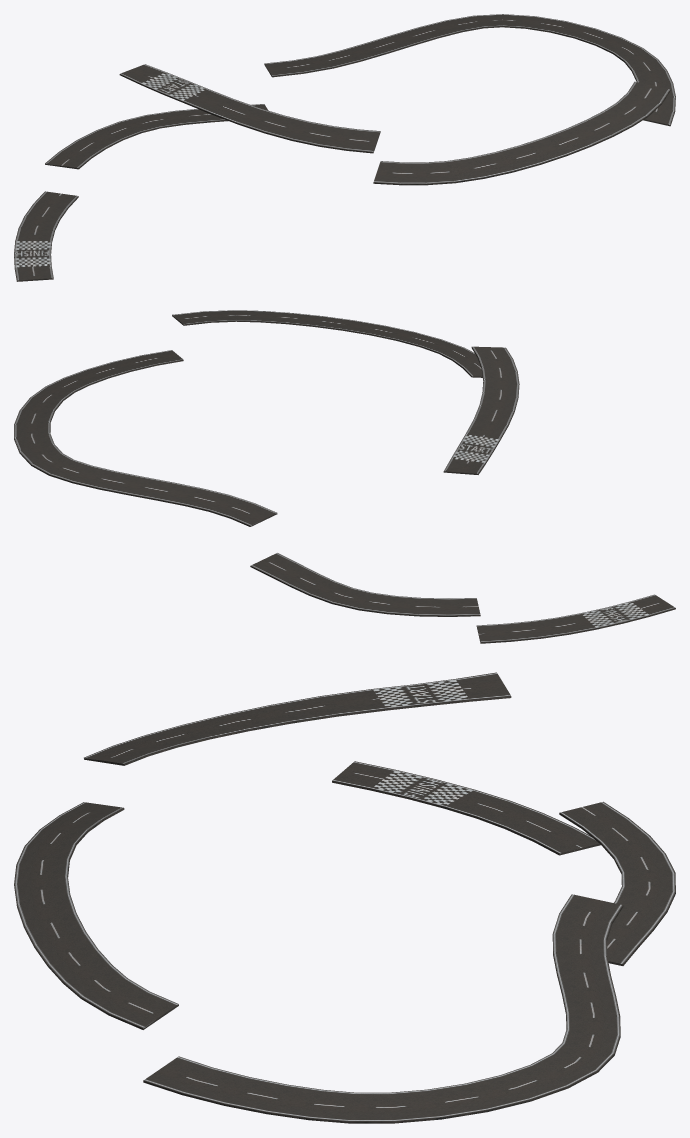
File: TrackLevel006.FBX
3 views of the same model, one above another, from view 1: azimuth 30°, elevation 25°; view 2: azimuth 150°, elevation 25°; view 3: azimuth 270°, elevation 25° (orthographic). The views are drawn at different scales.
Visible parts, largest first — view 1: Track006; view 2: Track006; view 3: Track006.
Part boxes in pixels (x1,y1,x2,y2): Track006: (14,14,675,281); Track006: (14,310,675,643); Track006: (14,672,675,1123).
Size of the model in its own units: 3972 by 825 by 2425.
